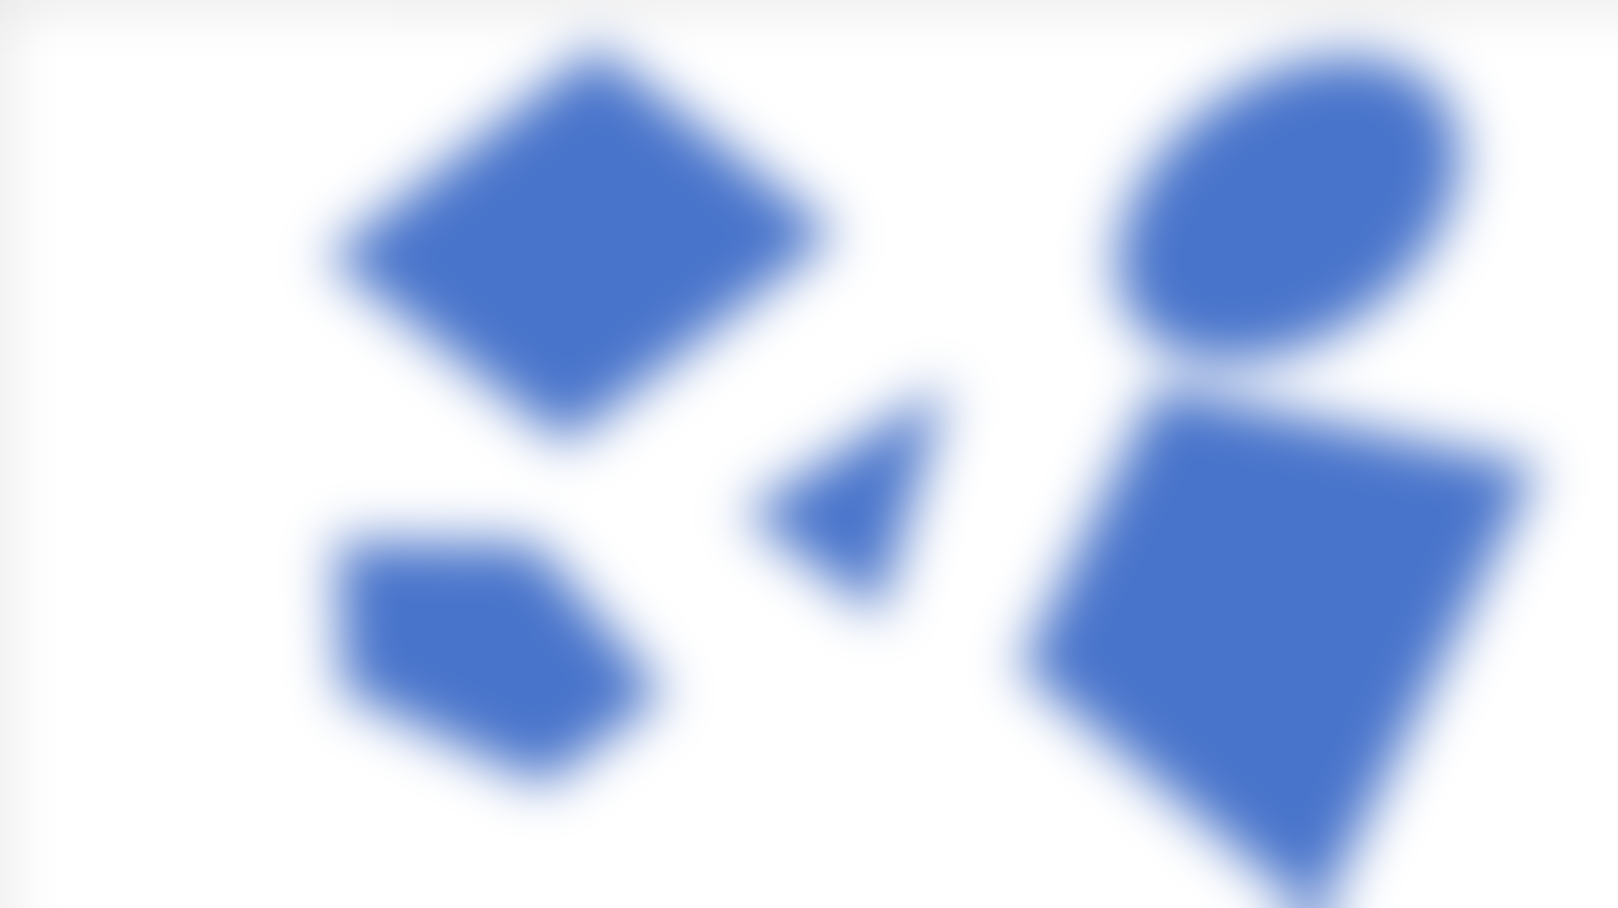circle: (1077, 29, 1514, 376)
parallelogram: (301, 17, 852, 452)
pentagon: (333, 519, 663, 802)
trapezium: (977, 382, 1555, 908)
triangle: (751, 383, 992, 632)
